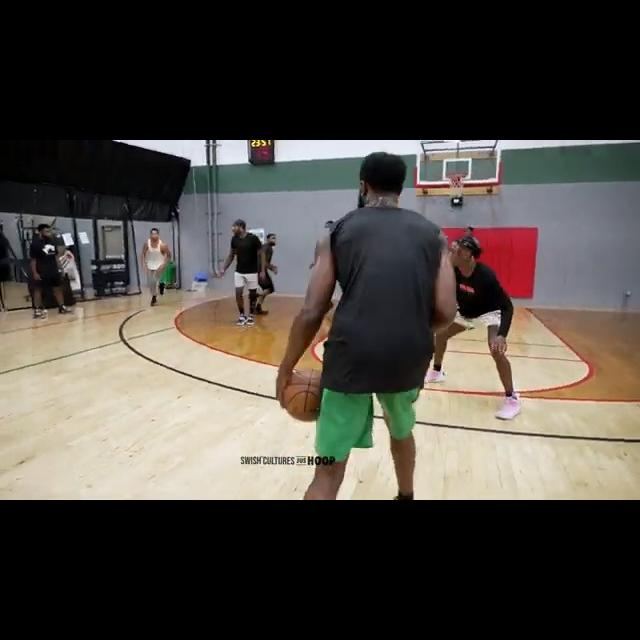basketball: (279, 368, 334, 422)
hoop: (443, 172, 469, 200)
person: (267, 157, 452, 500), (424, 237, 529, 422), (226, 217, 265, 329), (24, 226, 58, 321), (252, 228, 282, 321), (141, 228, 172, 307)
